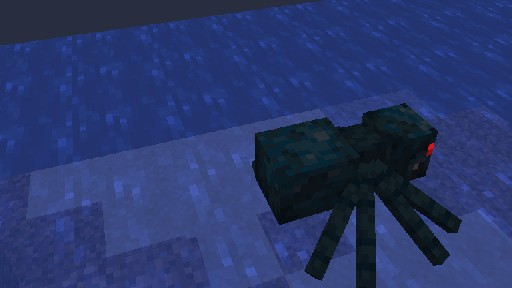cave_spider: (251, 102, 461, 288)
